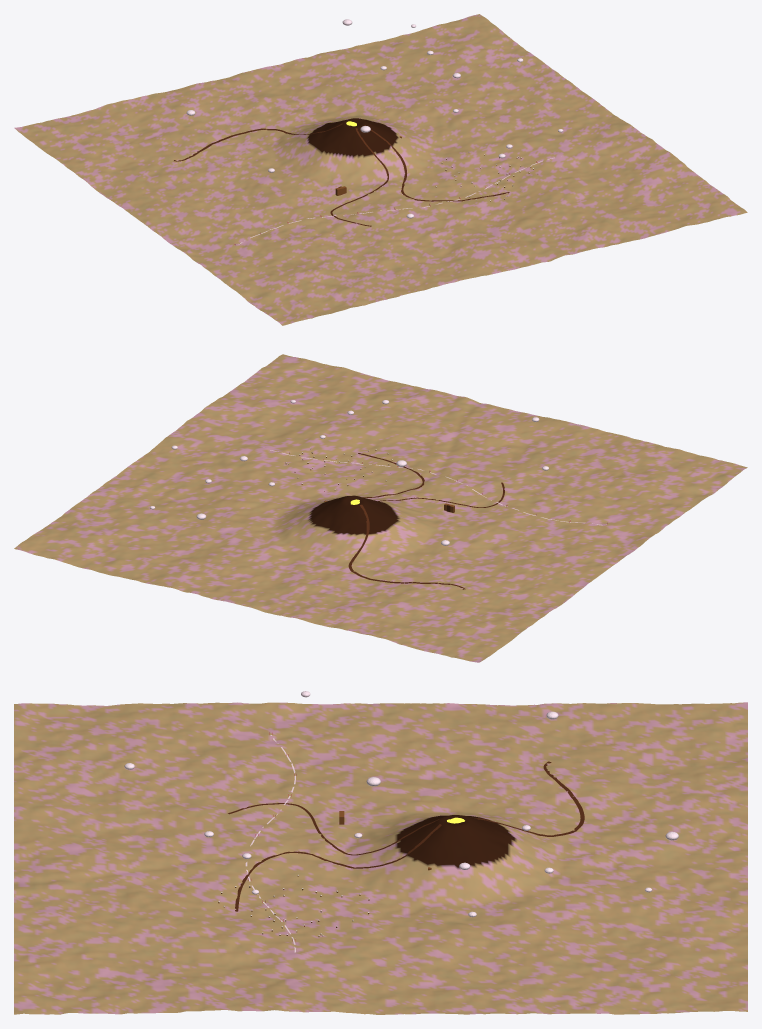
File: world.glb
3 renders of one model, top to bottom at view 1: azimuth 30°, elevation 25°; view 2: azimuth 150°, elevation 25°; view 3: azimuth 270°, elevation 25°, orthographic. The views are drawn at different scales.
Parts seen in each view (by area): view 1: Terrain; view 2: Terrain; view 3: Terrain, ChocolateRiver_1, ChocolateRiver_2.
Boxes of the visible parts, x1,y1,x2,y2 form: Terrain: (14, 14, 747, 325); Terrain: (14, 354, 747, 662); Terrain: (14, 702, 747, 1014); ChocolateRiver_1: (235, 824, 441, 911); ChocolateRiver_2: (462, 761, 584, 836).
Bounding box in the file's own units: 6000 × 709 × 6000.
